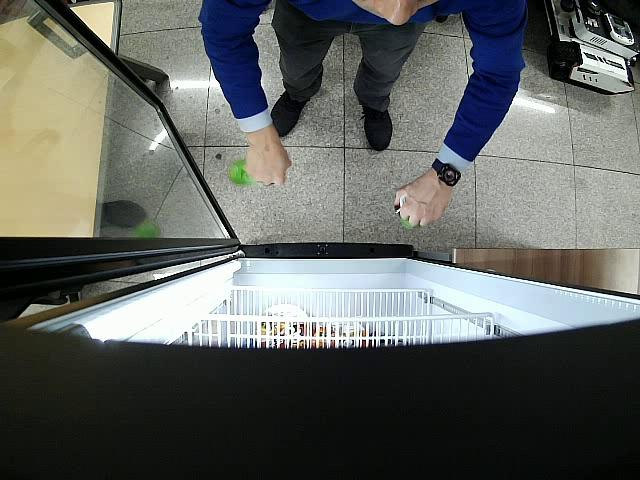00_hand: (395, 175, 448, 228), (246, 133, 291, 186)
19_17cha: (232, 157, 256, 186), (395, 195, 416, 228)
